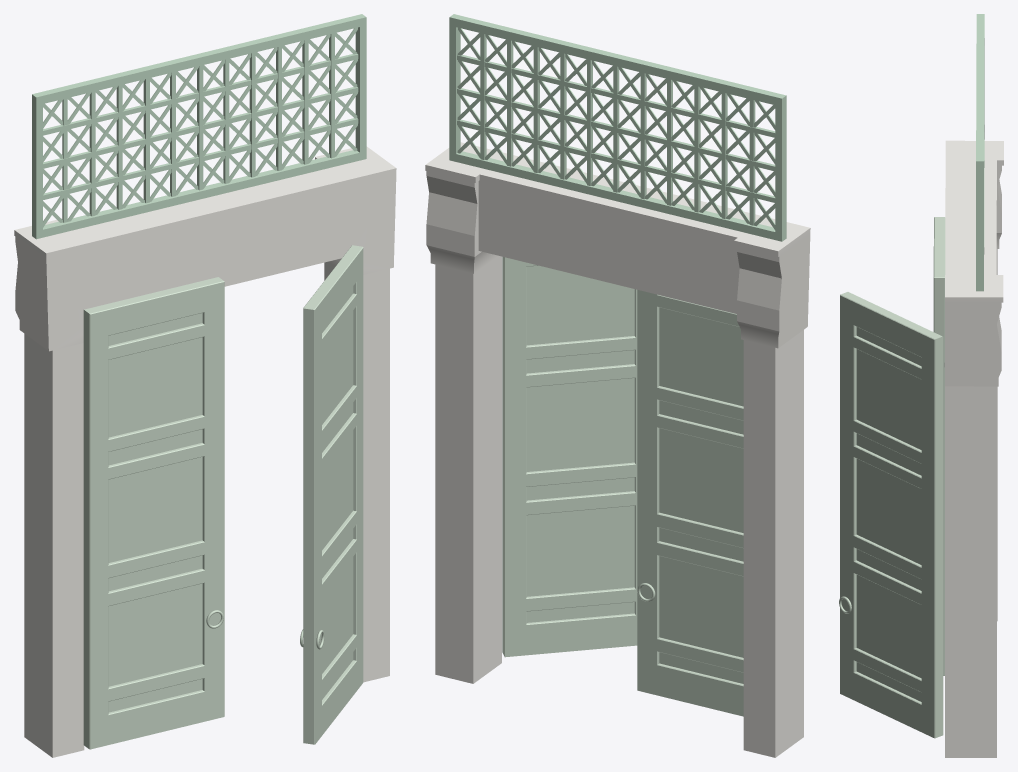
File: treasuryDoors.glb
The picture shows the model from 3 angles, left to right: view 1: azimuth 30°, elevation 25°; view 2: azimuth 150°, elevation 25°; view 3: azimuth 270°, elevation 25°; orthographic projection. The views are drawn at different scales.
Visible parts, largest first — view 1: TreasuryDoorArch, TreasuryRightDoor, TreasuryRoomGrate, TreasuryLeftDoor; view 2: TreasuryDoorArch, TreasuryLeftDoor, TreasuryRightDoor, TreasuryRoomGrate; view 3: TreasuryLeftDoor, TreasuryDoorArch, TreasuryRoomGrate, TreasuryRightDoor.
Part boxes in pixels (bbox=[...]): TreasuryDoorArch: bbox=[14, 146, 396, 757]; TreasuryRightDoor: bbox=[83, 277, 224, 749]; TreasuryRoomGrate: bbox=[32, 14, 366, 239]; TreasuryLeftDoor: bbox=[300, 245, 363, 744]; TreasuryDoorArch: bbox=[425, 142, 810, 757]; TreasuryLeftDoor: bbox=[502, 256, 637, 657]; TreasuryRightDoor: bbox=[637, 290, 743, 716]; TreasuryRoomGrate: bbox=[449, 14, 786, 241]; TreasuryLeftDoor: bbox=[839, 292, 943, 738]; TreasuryDoorArch: bbox=[944, 140, 1003, 757]; TreasuryRoomGrate: bbox=[976, 14, 984, 291]; TreasuryRightDoor: bbox=[933, 217, 945, 675].
Size of the model in its own units: 4.79 by 8.48 by 2.14.
